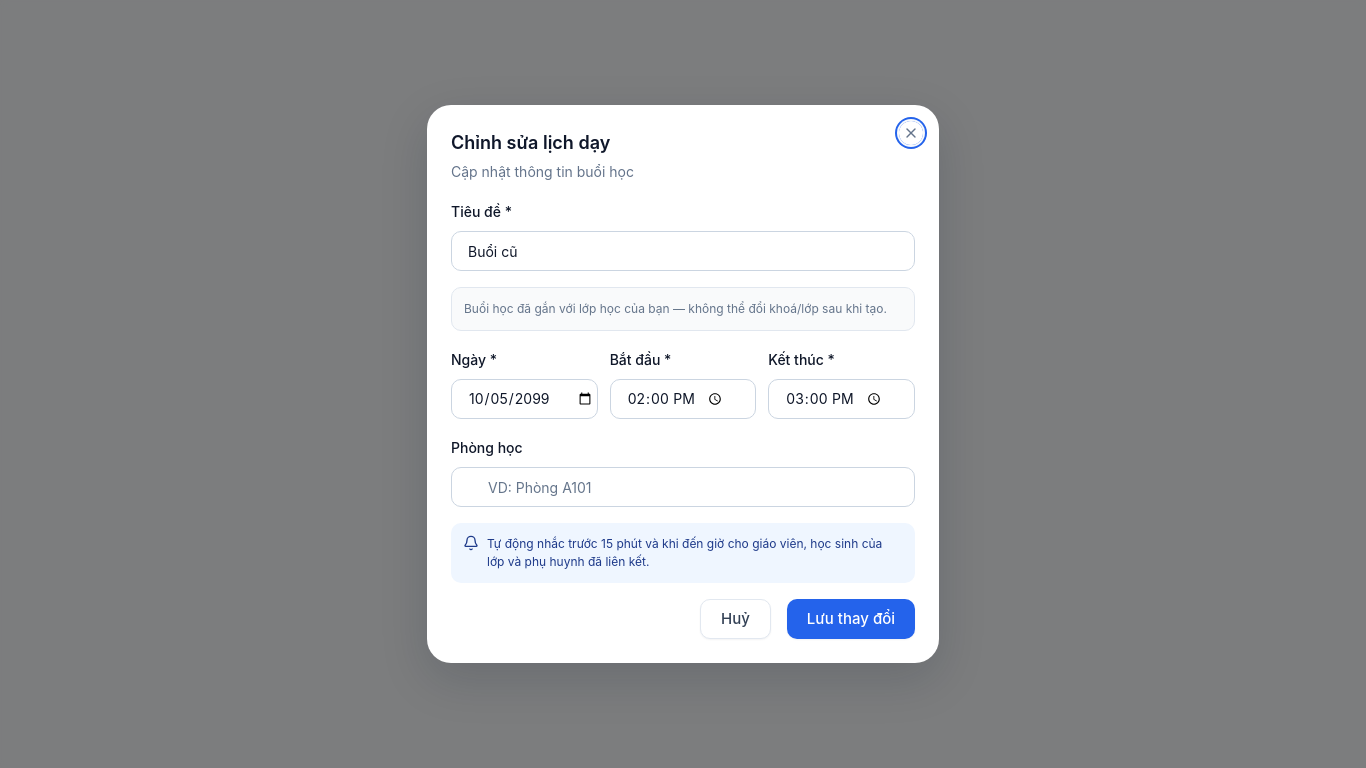
Test: ScheduleEventFormDialog — lưu bất đồng bộ › chặn double submit, giữ bản nháp và mở lại nút khi API lỗi
The image size is (1366, 768).
Click the button "Lưu thay đổi" at x=851, y=619, box [787,599,915,639]
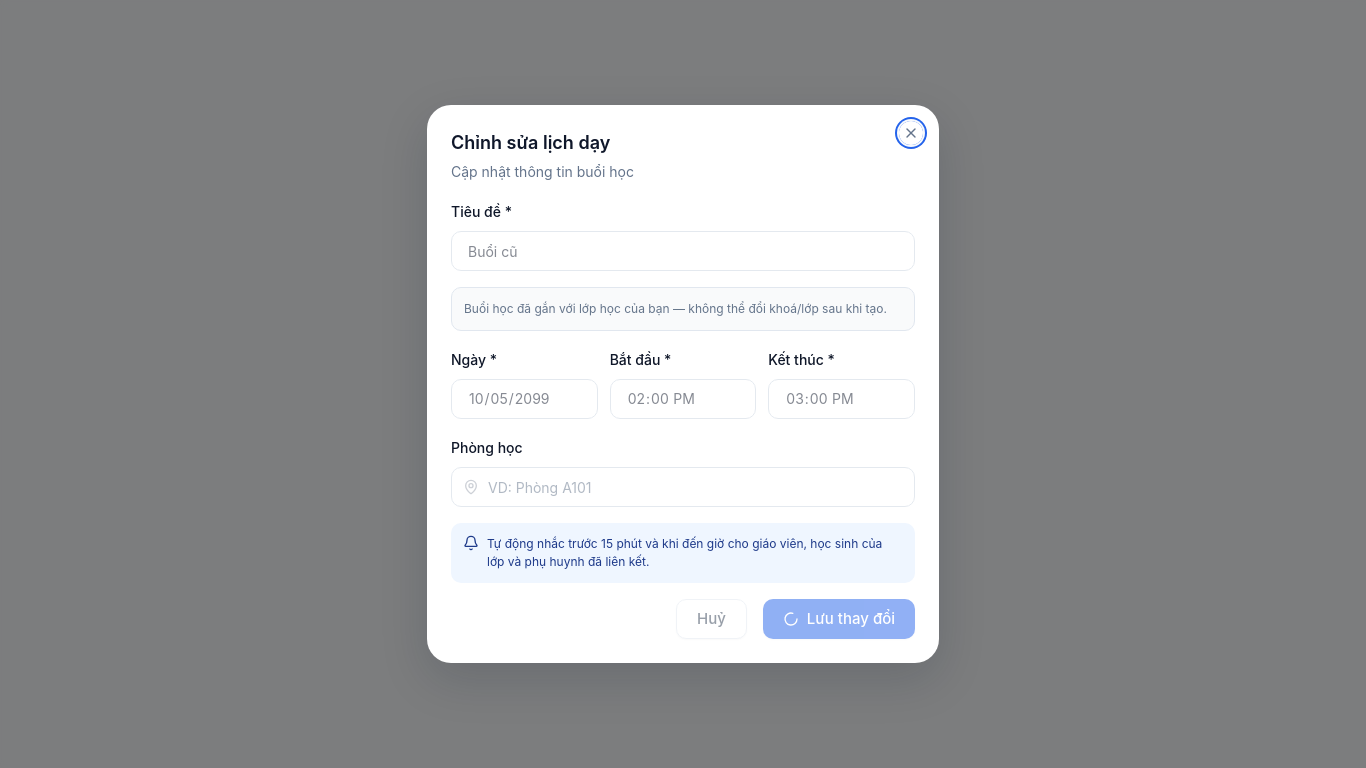
Click the button "Lưu thay đổi" at x=839, y=619, box [763,599,915,639]
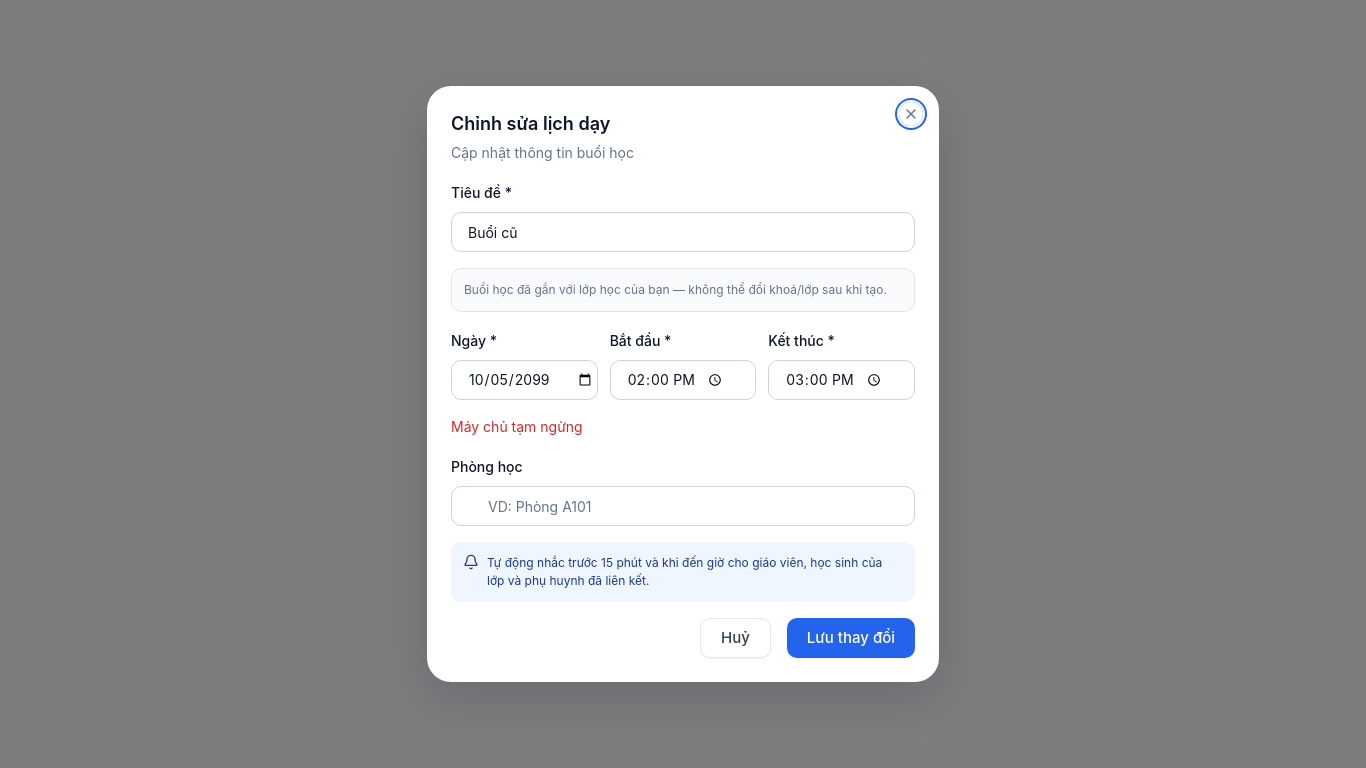
Check: the field labelled "Tiêu đề *" holds "Buổi cũ", box [451,212,915,252]
Check: the message reads "Máy chủ tạm ngừng", box [451,418,583,435]
